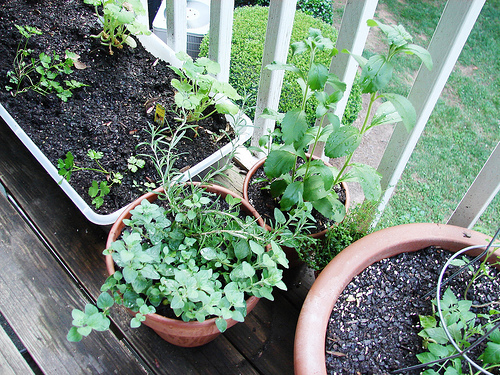tire: (103, 179, 272, 350)
